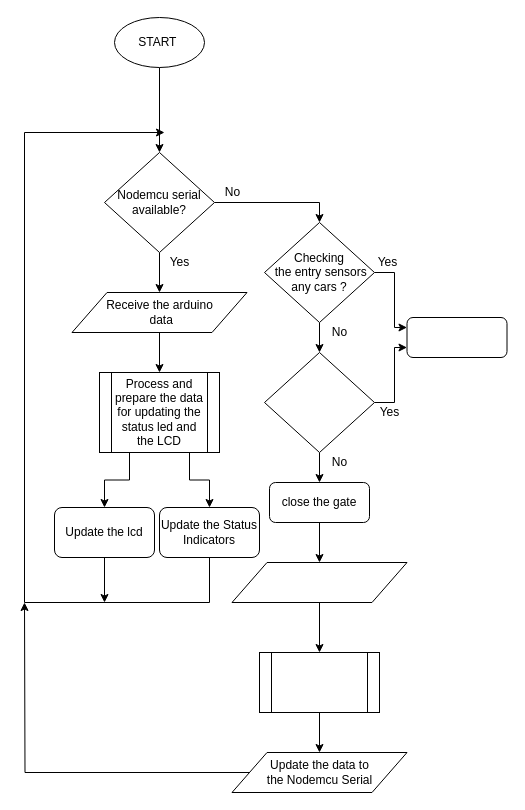
Image size: 525x810. Some labels were removed from this diagram. Each missing label, with the centre of its shape:
Checking the exit sensors any cars ?: pixel 319 402
open the gate: pixel 456 337
Process and prepare the data for Nodemcu update: pixel 319 682
Read the sensor datas: pixel 319 582
